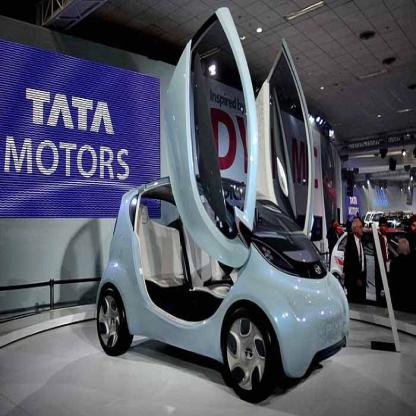car: (99, 8, 349, 395)
